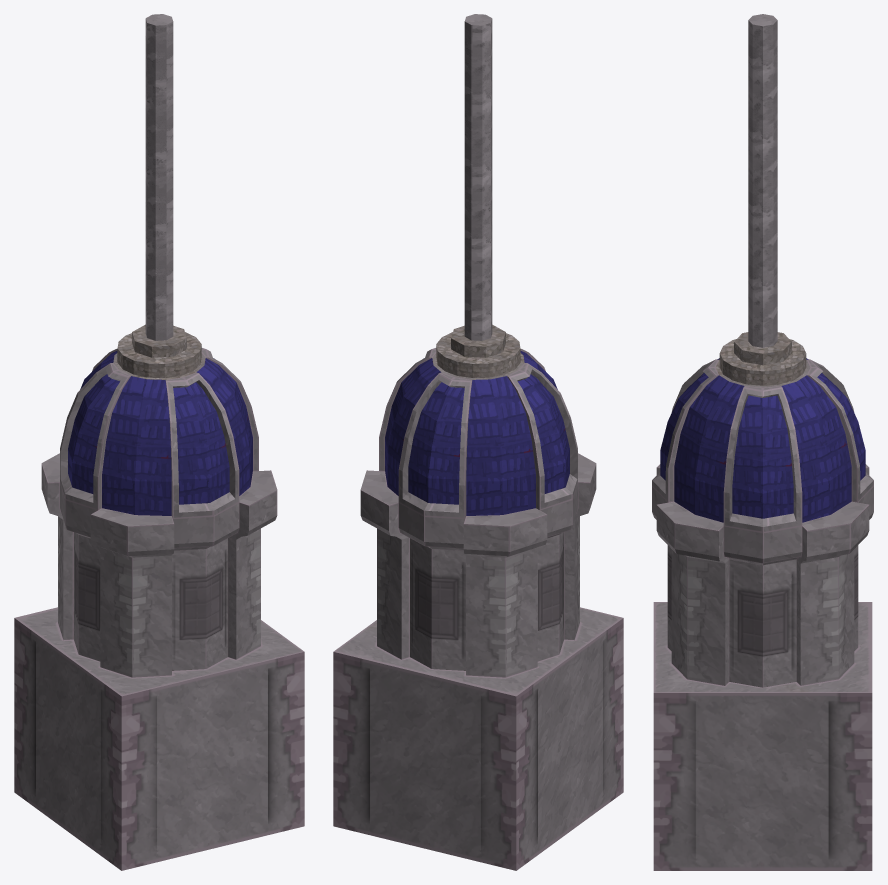
File: Fancy_Turret_2.fbx
3 renders of one model, left to right at view 1: azimuth 30°, elevation 25°; view 2: azimuth 150°, elevation 25°; view 3: azimuth 270°, elevation 25°, orthographic.
Visible parts, largest first — view 1: Cube.023; view 2: Cube.023; view 3: Cube.023.
Boxes of the visible parts, left/top/right/bottom form: Cube.023: left=14, top=14, right=304, bottom=870; Cube.023: left=333, top=14, right=623, bottom=870; Cube.023: left=652, top=14, right=873, bottom=870.
Size of the model in its own units: 308 by 1235 by 308.
